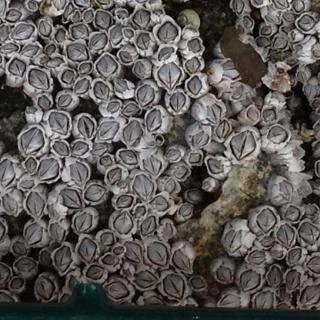Barnacle: (230, 129, 255, 159), (20, 127, 44, 155), (157, 61, 181, 89), (162, 273, 186, 299), (131, 173, 153, 201), (222, 229, 244, 254), (256, 206, 277, 232), (96, 52, 116, 79), (238, 268, 260, 292), (147, 242, 168, 267), (122, 119, 141, 146), (38, 157, 60, 180), (68, 162, 88, 187), (48, 111, 68, 136), (54, 245, 73, 271), (156, 20, 177, 43), (26, 192, 45, 217), (298, 222, 319, 244), (60, 188, 81, 210), (27, 68, 49, 89), (66, 41, 88, 62), (133, 269, 156, 289), (77, 237, 96, 261), (112, 211, 131, 235), (73, 210, 92, 234), (266, 125, 288, 145), (219, 58, 241, 78), (76, 115, 95, 138), (36, 275, 53, 300), (301, 284, 320, 306), (24, 223, 43, 245), (96, 121, 118, 140), (254, 291, 274, 311), (142, 156, 163, 175), (124, 242, 142, 264), (277, 223, 294, 246), (83, 185, 106, 202), (91, 80, 110, 100), (7, 57, 27, 76), (172, 248, 190, 269), (106, 282, 128, 299), (137, 84, 154, 106), (10, 24, 33, 40), (139, 215, 156, 236), (146, 108, 161, 131), (133, 9, 151, 28), (285, 268, 301, 289), (220, 293, 243, 307), (49, 220, 65, 240), (118, 149, 138, 165), (15, 258, 36, 273), (0, 159, 12, 185), (268, 265, 282, 287), (89, 32, 106, 50), (2, 194, 18, 213), (279, 180, 294, 200), (205, 103, 220, 123), (71, 23, 88, 40), (286, 246, 302, 264), (284, 204, 300, 222), (150, 195, 168, 211), (191, 130, 207, 148), (170, 92, 185, 111), (96, 9, 111, 28), (109, 23, 123, 43), (98, 230, 115, 246), (207, 157, 223, 174), (298, 15, 315, 31), (106, 167, 121, 185), (121, 103, 139, 118), (188, 74, 201, 94), (53, 140, 68, 156), (306, 256, 320, 273), (185, 56, 199, 73), (136, 33, 150, 50), (248, 250, 266, 263), (216, 119, 229, 137), (217, 266, 231, 282), (87, 265, 103, 279), (116, 194, 132, 208), (74, 78, 88, 94), (0, 263, 10, 285), (66, 274, 78, 292), (21, 44, 39, 56), (159, 46, 174, 60), (0, 292, 16, 305), (46, 201, 59, 217), (165, 148, 182, 160), (91, 143, 108, 155), (71, 142, 88, 154), (305, 83, 317, 100), (271, 37, 288, 49), (39, 19, 51, 36), (62, 3, 74, 20), (12, 241, 26, 255), (231, 0, 245, 14), (173, 165, 188, 178), (58, 93, 73, 106), (61, 69, 74, 84), (187, 38, 200, 53), (24, 157, 36, 173), (291, 147, 303, 163), (115, 78, 127, 94), (101, 255, 118, 266), (162, 222, 173, 239), (134, 61, 145, 78), (230, 85, 244, 98), (6, 9, 20, 22), (247, 106, 259, 121), (106, 101, 121, 113), (265, 12, 280, 24), (38, 95, 51, 108), (186, 190, 200, 202), (303, 204, 318, 215), (165, 177, 176, 192), (41, 250, 51, 266), (270, 0, 290, 8), (270, 247, 283, 259), (178, 204, 191, 216), (78, 62, 91, 74), (9, 278, 23, 289), (188, 152, 202, 163), (0, 43, 17, 52), (18, 180, 34, 189), (0, 25, 9, 41), (278, 287, 289, 300), (190, 278, 203, 289), (52, 0, 66, 10), (119, 51, 131, 62), (45, 43, 56, 55), (260, 236, 273, 246), (311, 141, 320, 155), (255, 38, 269, 47), (56, 27, 65, 41), (134, 206, 146, 216), (49, 57, 62, 66), (281, 12, 295, 20), (115, 10, 126, 20), (293, 0, 303, 11), (123, 28, 133, 38), (83, 10, 93, 20), (27, 1, 37, 11), (112, 246, 123, 255), (100, 156, 111, 165), (25, 104, 36, 113), (260, 25, 271, 34), (243, 16, 252, 27), (297, 71, 306, 80), (314, 123, 320, 136), (300, 182, 307, 192), (313, 49, 320, 57)
